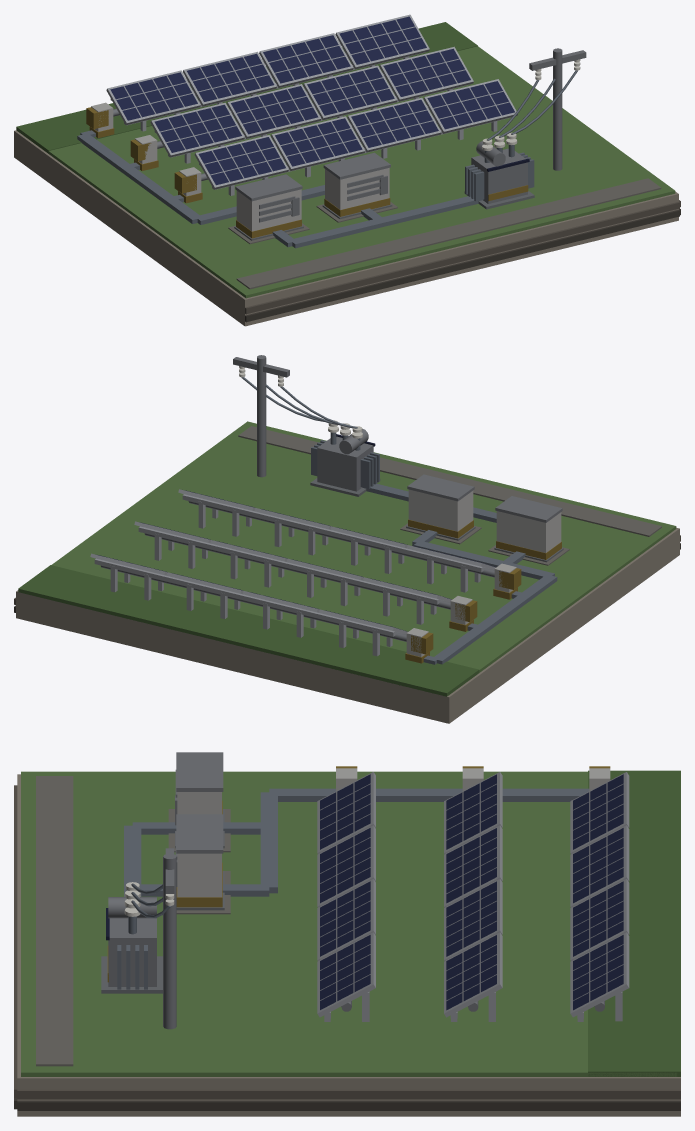
The model's file is solar_farm_lvl2.glb.
3 renders of one model, top to bottom at view 1: azimuth 30°, elevation 25°; view 2: azimuth 150°, elevation 25°; view 3: azimuth 270°, elevation 25°, orthographic. The views are drawn at different scales.
Visible parts, largest first — view 1: solar_farm; view 2: solar_farm; view 3: solar_farm.
Part boxes in pixels (box(x1,y1,x2,y2)): solar_farm: box(14, 14, 680, 326); solar_farm: box(14, 355, 680, 723); solar_farm: box(14, 752, 680, 1116).
Size of the model in its own units: 0.8316 by 0.2697 by 0.7671.
